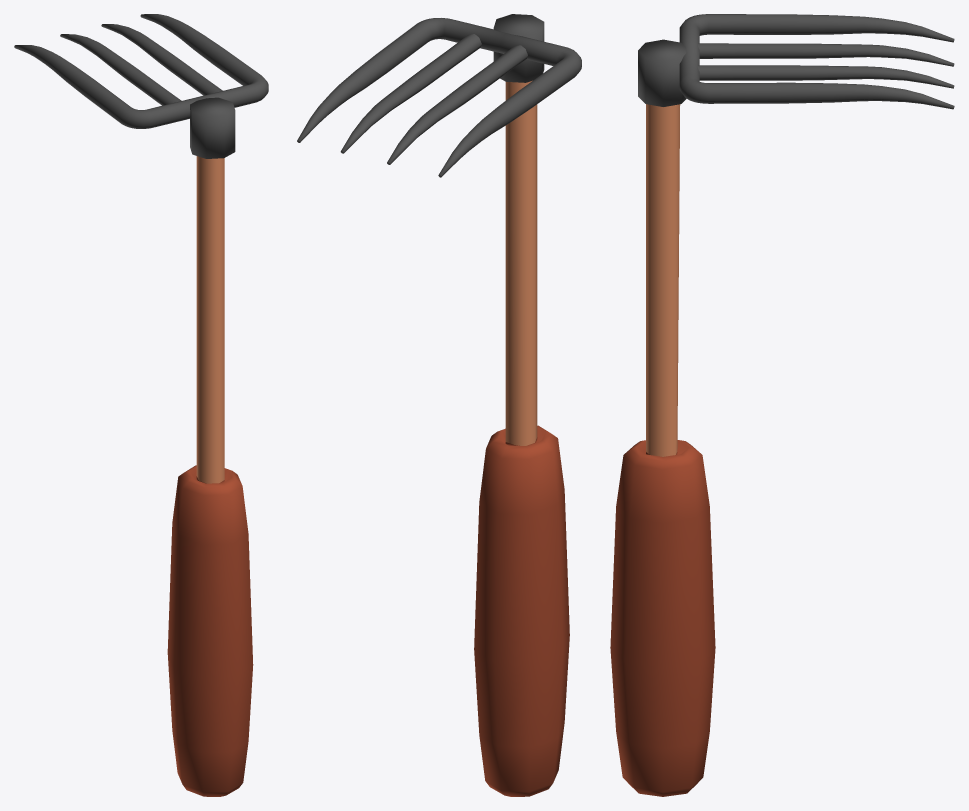
The model's file is toolsGarden_Fork.fbx.
3 renders of one model, left to right at view 1: azimuth 30°, elevation 25°; view 2: azimuth 150°, elevation 25°; view 3: azimuth 270°, elevation 25°, orthographic. The views are drawn at different scales.
Parts seen in each view (by area): view 1: Garden Fork; view 2: Garden Fork; view 3: Garden Fork.
Boxes of the visible parts, box(x1,y1,x2,y2) form: Garden Fork: box(14, 14, 268, 796); Garden Fork: box(297, 14, 581, 796); Garden Fork: box(610, 14, 954, 796).
Bounding box in the file's own units: 49.18 × 220 × 92.14.
